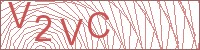2: (33, 14, 54, 43)
C: (87, 11, 111, 39)
V: (6, 1, 32, 30), (59, 17, 84, 45)
